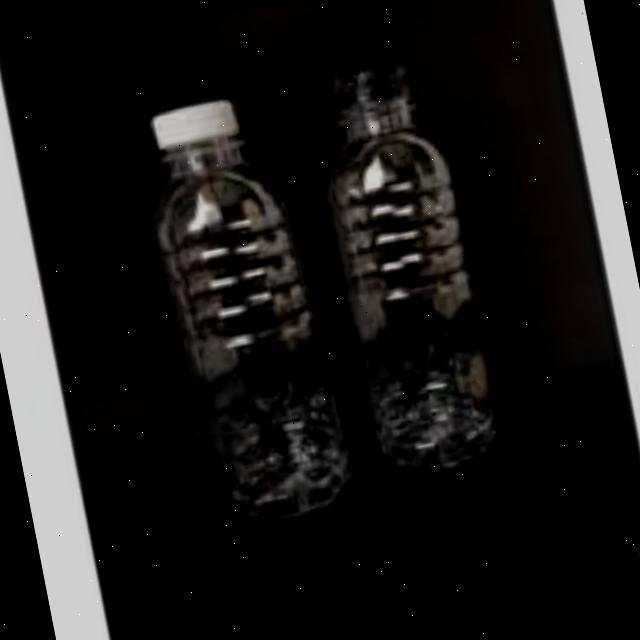trash: (124, 71, 365, 537), (289, 43, 530, 491)
